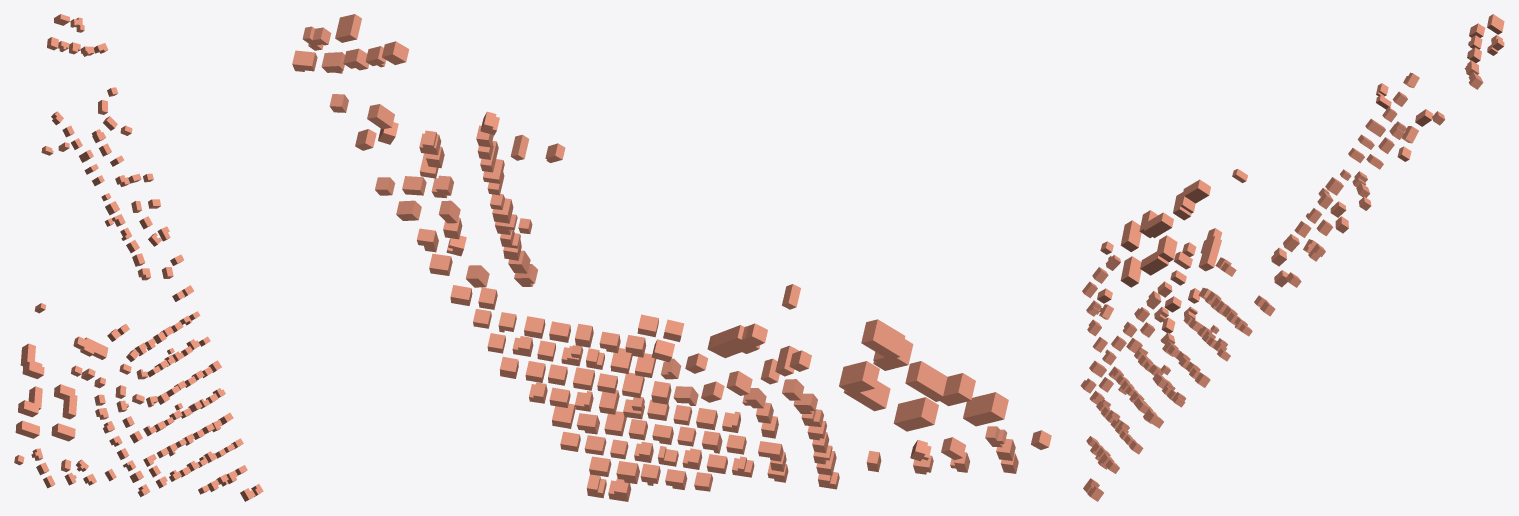
The picture shows the model from 3 angles, left to right: view 1: azimuth 30°, elevation 25°; view 2: azimuth 150°, elevation 25°; view 3: azimuth 270°, elevation 25°; orthographic projection. The views are drawn at different scales.
Parts seen in each view (by area): view 1: mesh; view 2: mesh; view 3: mesh.
Boxes of the visible parts, left/top/right/bottom form: mesh: left=14, top=14, right=263, bottom=501; mesh: left=292, top=14, right=1051, bottom=501; mesh: left=1080, top=14, right=1504, bottom=501.
Size of the model in its own units: 467 by 685 by 565.
